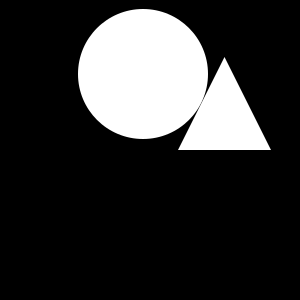rectangle: (78, 9, 208, 139)
triangle: (178, 57, 271, 150)
